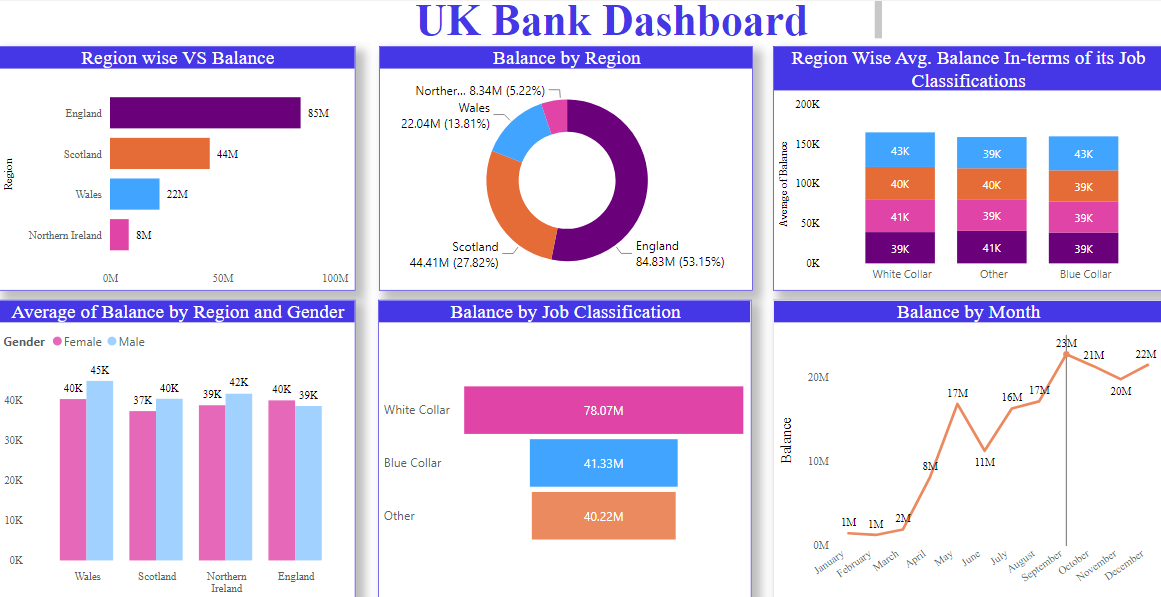

This screenshot's page, from the dashboard's own definition file:
{"tool":"powerbi","page":{"name":"Page 1","canvas":[1280,720],"ordinal":0},"visuals":[{"type":"textbox","box":[368.6,37.9,607.9,61.3],"z":0},{"type":"clusteredBarChart","title":"Region wise VS Balance","fields":{"Category":["P1-UK-Bank-Customers.Region"],"Y":["Sum(P1-UK-Bank-Customers.Balance)"]},"box":[0,99.2,392.9,268.4],"z":1000},{"type":"donutChart","fields":{"Category":["P1-UK-Bank-Customers.Region"],"Y":["Sum(P1-UK-Bank-Customers.Balance)"]},"box":[418.2,99.2,410.5,268.4],"z":2000},{"type":"columnChart","title":"Region Wise Avg. Balance In-terms of its Job Classifications","fields":{"Y":["Avg(P1-UK-Bank-Customers.Balance)"],"Category":["P1-UK-Bank-Customers.Job Classification"],"Series":["P1-UK-Bank-Customers.Region"]},"box":[852,99.2,428,268.4],"z":3000},{"type":"clusteredColumnChart","fields":{"Category":["P1-UK-Bank-Customers.Gender","P1-UK-Bank-Customers.Region"],"Y":["Avg(P1-UK-Bank-Customers.Balance)"],"Series":["P1-UK-Bank-Customers.Gender"]},"box":[0,377.4,392.9,330.7],"z":4000},{"type":"lineChart","fields":{"Y":["Sum(P1-UK-Bank-Customers.Balance)"],"Category":["P1-UK-Bank-Customers.Date Joined.Variation.Date Hierarchy.Month"]},"box":[852,377.4,428,330.7],"z":5000},{"type":"funnel","fields":{"Category":["P1-UK-Bank-Customers.Job Classification"],"Y":["Sum(P1-UK-Bank-Customers.Balance)"]},"box":[418,377,410,331],"z":6000}]}

Visuals, with their boxes on the page's 1280x720 design canvas (x1, y1, x2, y2). These are canvas units, not pixel positions in the 1161x597 screenshot, which may show the page scaled, cropped or inside an application window:
textbox: Rect(369, 38, 976, 99)
"Region wise VS Balance" clusteredBarChart: Rect(0, 99, 393, 368)
donutChart - P1-UK-Bank-Customers.Region x Sum(P1-UK-Bank-Customers.Balance): Rect(418, 99, 829, 368)
"Region Wise Avg. Balance In-terms of its Job Classifications" columnChart: Rect(852, 99, 1280, 368)
clusteredColumnChart - P1-UK-Bank-Customers.Gender x P1-UK-Bank-Customers.Region: Rect(0, 377, 393, 708)
lineChart - Sum(P1-UK-Bank-Customers.Balance) x P1-UK-Bank-Customers.Date Joined.Variation.Date Hierarchy.Month: Rect(852, 377, 1280, 708)
funnel - P1-UK-Bank-Customers.Job Classification x Sum(P1-UK-Bank-Customers.Balance): Rect(418, 377, 828, 708)
